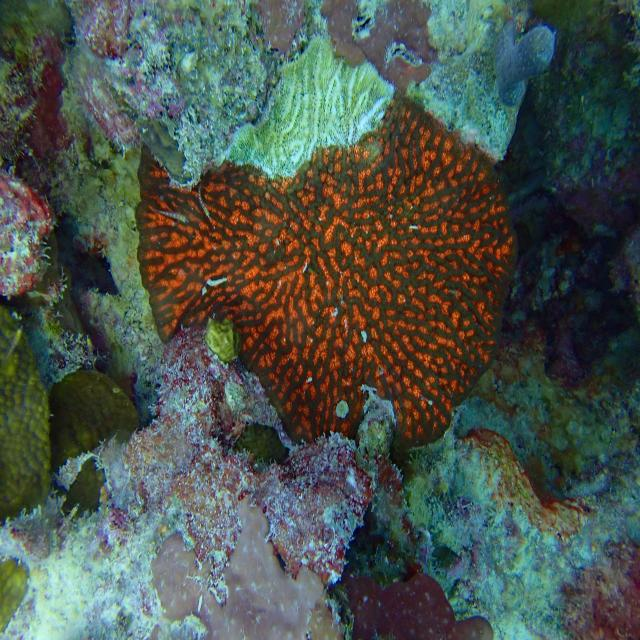Coral: (134, 33, 520, 460)
